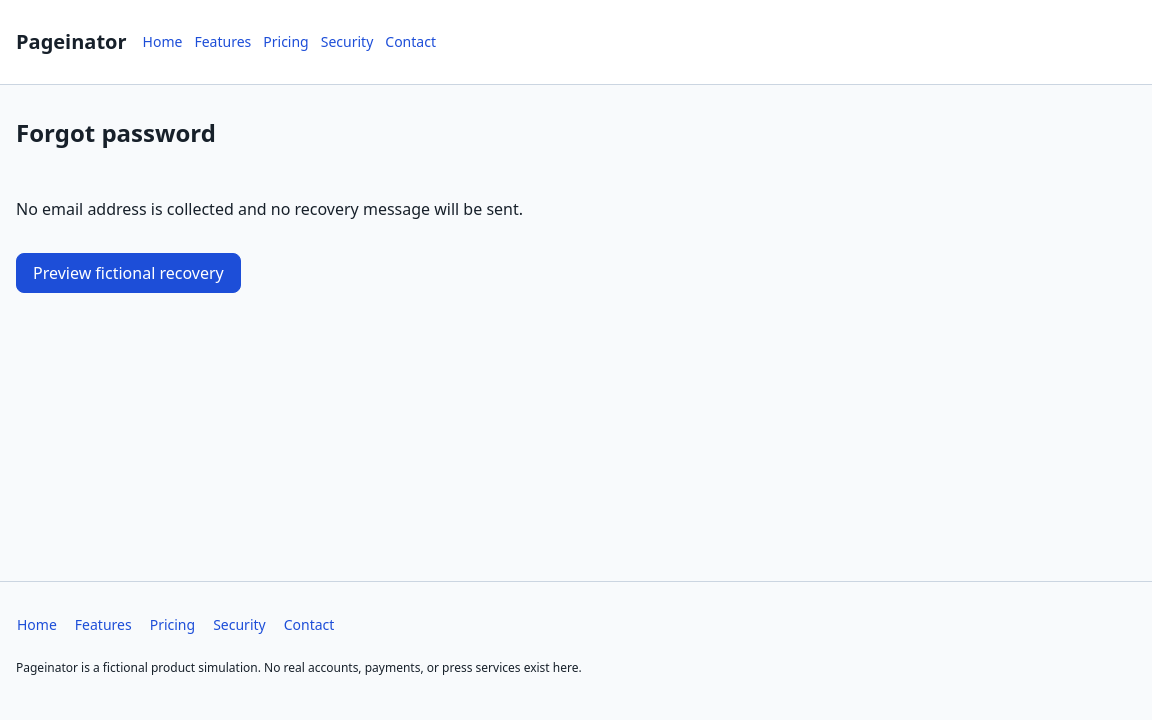
Test: UI004 auth and public routes › recovery action performs no network, persistence, form, cookie, or mail navigation
Click the button "Preview fictional recovery": (128, 273) [16,253,241,293]
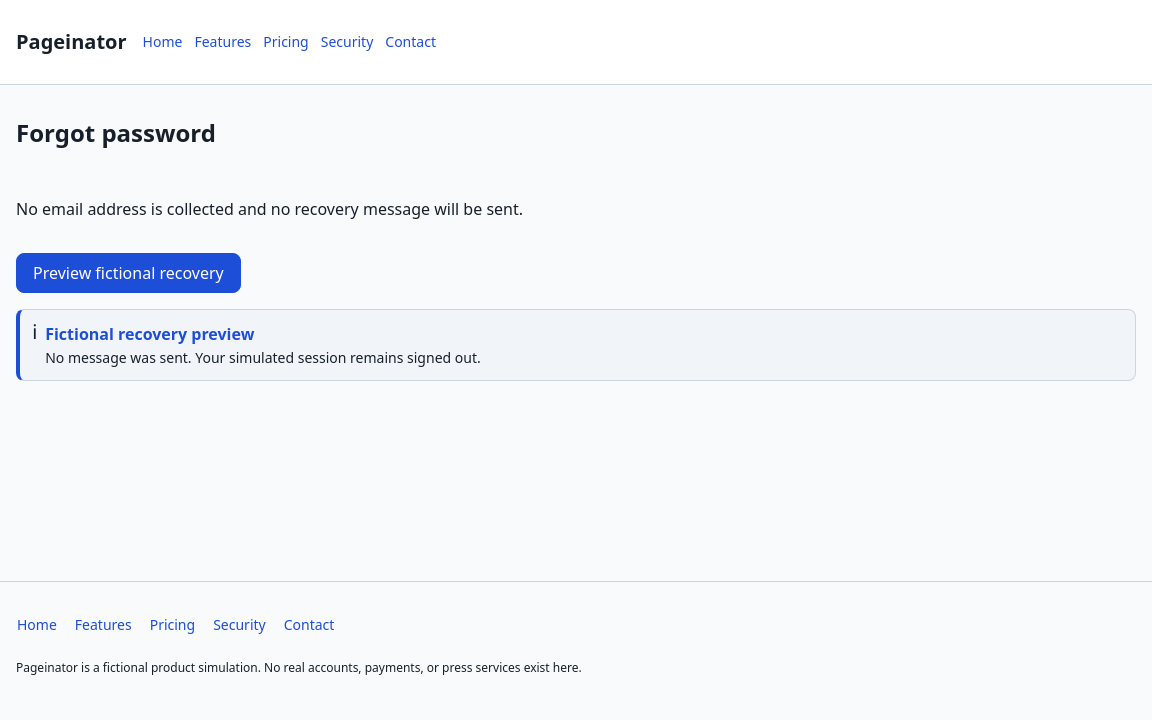
Expected: the text "No message was sent" is shown, [45,348,481,367]
